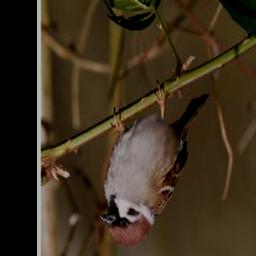Sparrow: (97, 80, 213, 250)
